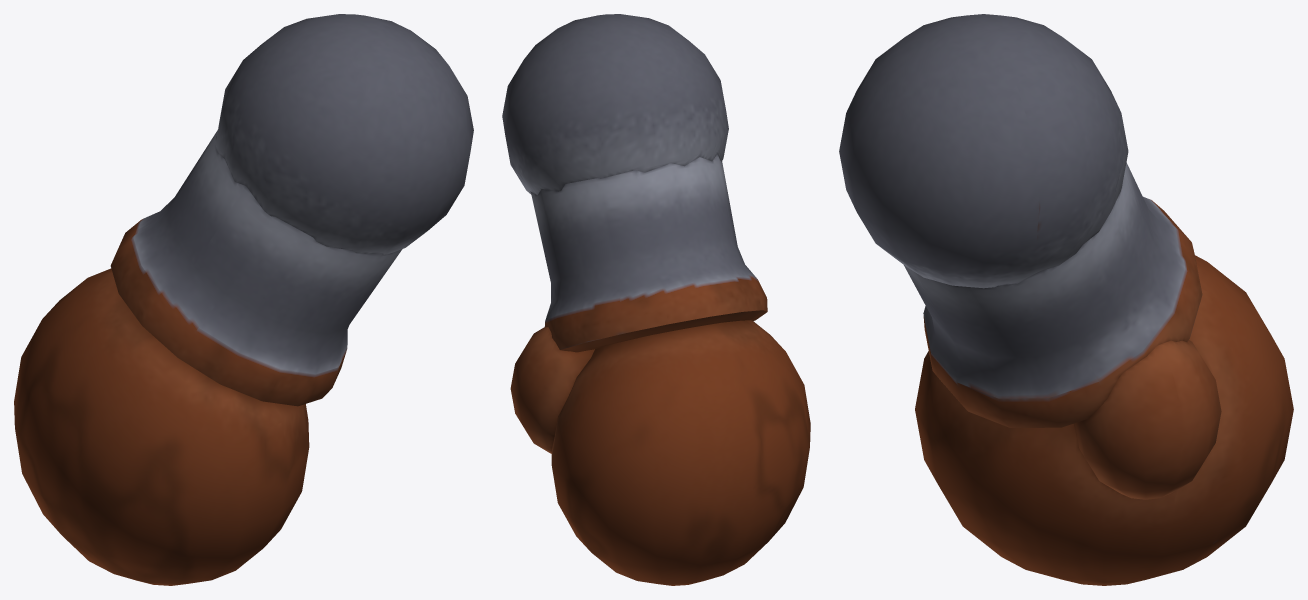
File: forearm_l.glb
3 views of the same model, side by side, from view 1: azimuth 30°, elevation 25°; view 2: azimuth 150°, elevation 25°; view 3: azimuth 270°, elevation 25° (orthographic). The views are drawn at different scales.
Visible parts, largest first — view 1: forearm_l; view 2: forearm_l; view 3: forearm_l.
Boxes of the visible parts, x1,y1,x2,y2 form: forearm_l: (14,14,473,585); forearm_l: (502,14,810,585); forearm_l: (839,14,1293,585).
Size of the model in its own units: 0.136 by 0.1974 by 0.132.
Materials: 2 (2 with a texture image).
